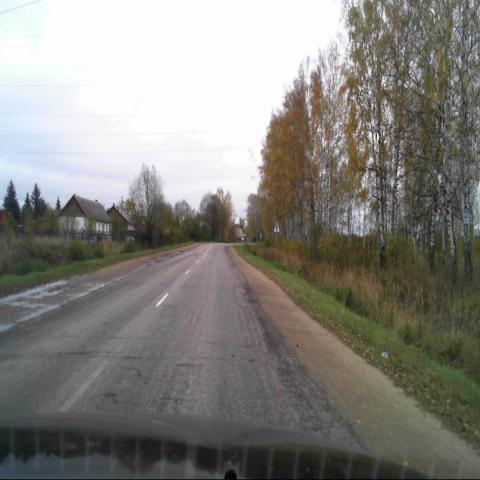2_3_3: (273, 220, 281, 234)
